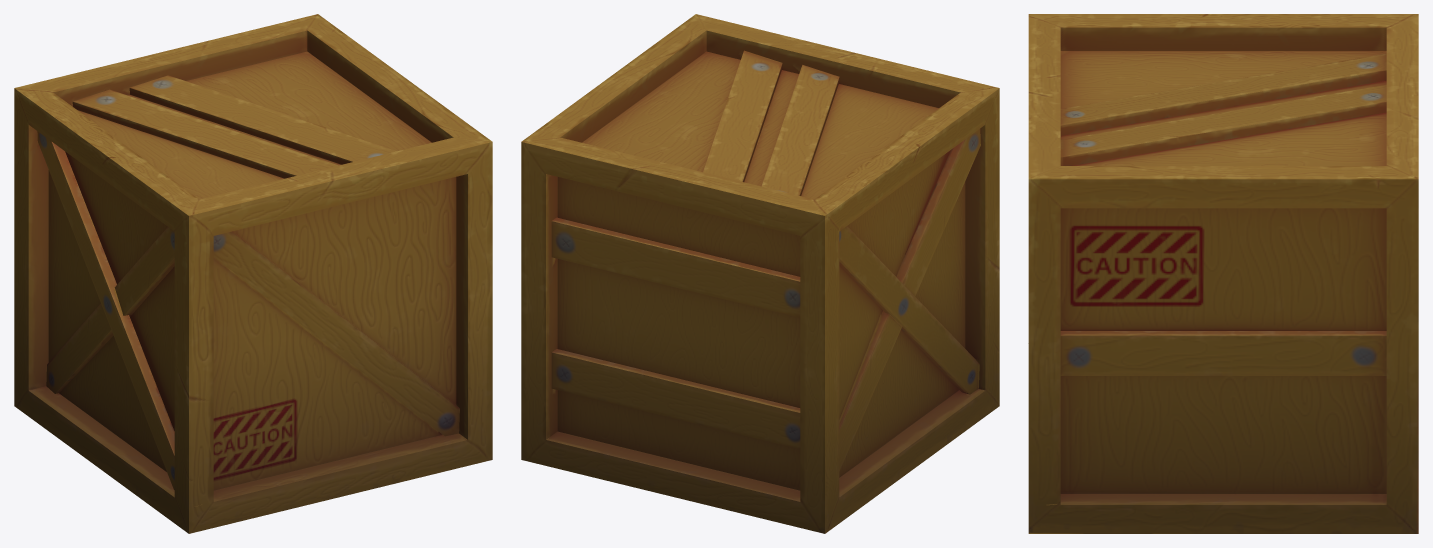
File: cajita_ correcta.fbx
3 views of the same model, side by side, from view 1: azimuth 30°, elevation 25°; view 2: azimuth 150°, elevation 25°; view 3: azimuth 270°, elevation 25° (orthographic). The views are drawn at different scales.
Visible parts, largest first — view 1: MSH_Caja; view 2: MSH_Caja; view 3: MSH_Caja.
Boxes of the visible parts, <box> form: MSH_Caja: <box>14,14,492,533</box>; MSH_Caja: <box>521,14,999,533</box>; MSH_Caja: <box>1028,14,1418,533</box>.
Size of the model in its own units: 0.9966 by 0.9919 by 0.9952.
